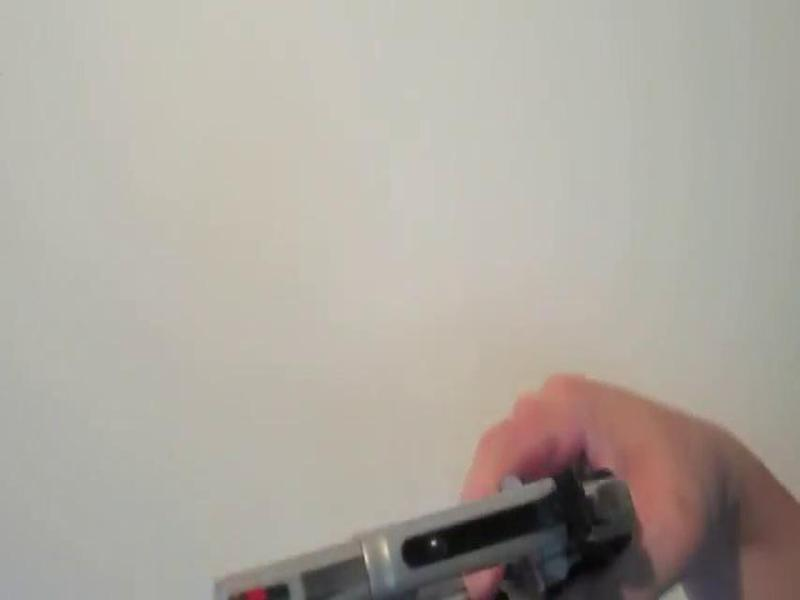Revolver: (196, 418, 693, 600)
